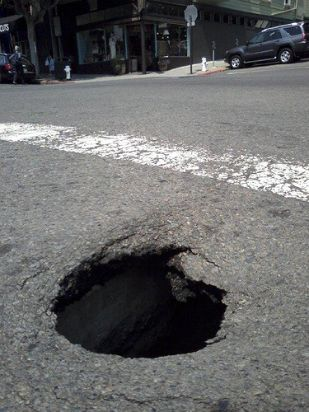pothole: (43, 234, 231, 363)
